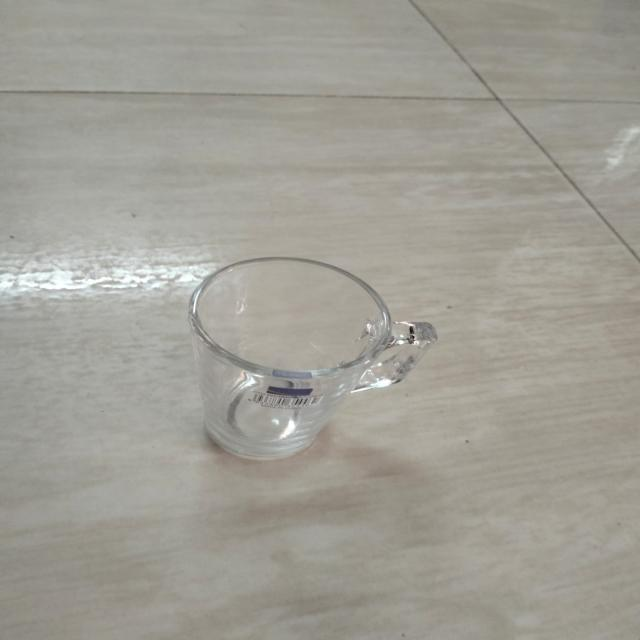glass-VX4N: (188, 252, 440, 463)
